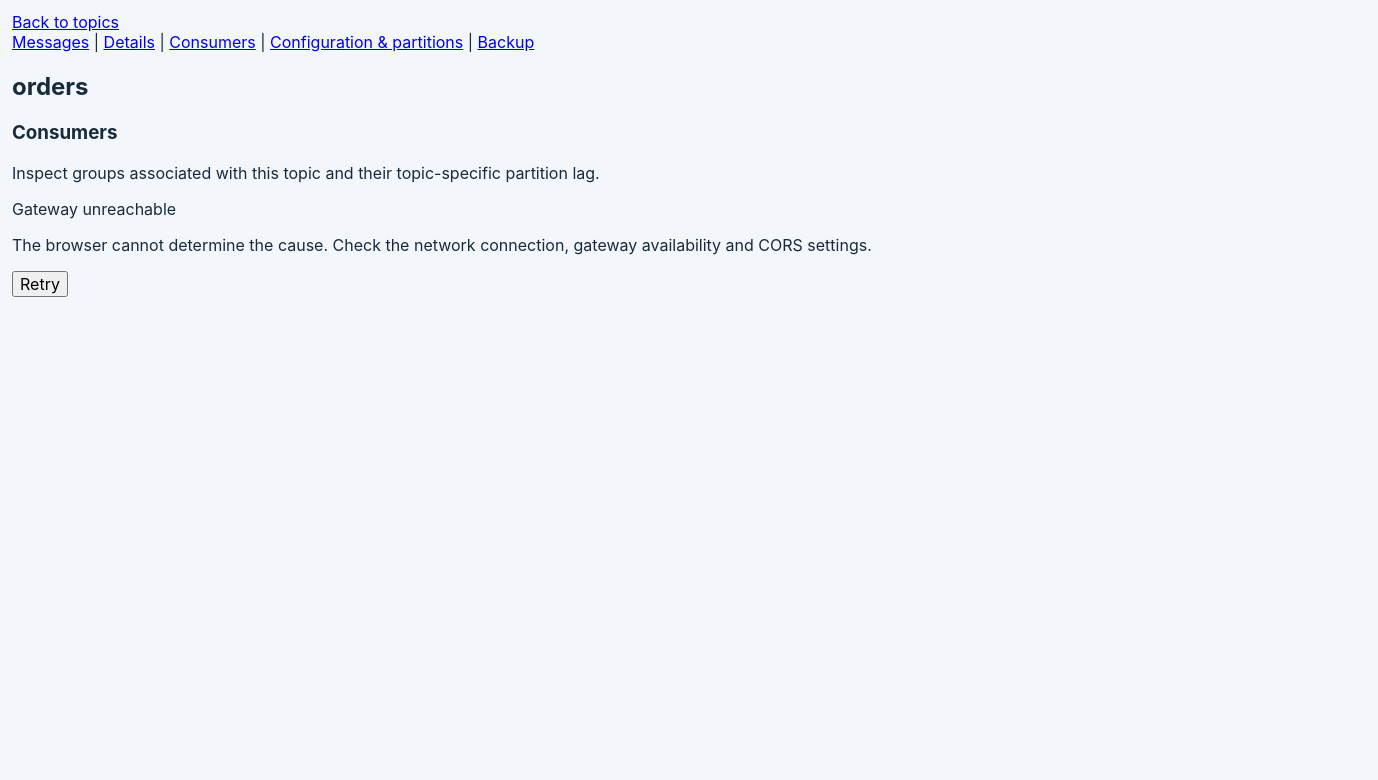
Test: TopicConsumerGroups › shows known group errors and retries gateway failures
The width and height of the screenshot is (1378, 780).
Expected: the text "Gateway unreachable" is shown, left=12, top=198, right=176, bottom=218
What coordinates should you click on to do the following:
click the button "Retry"
I would click on:
 (40, 284)
Its box is left=12, top=270, right=68, bottom=296.
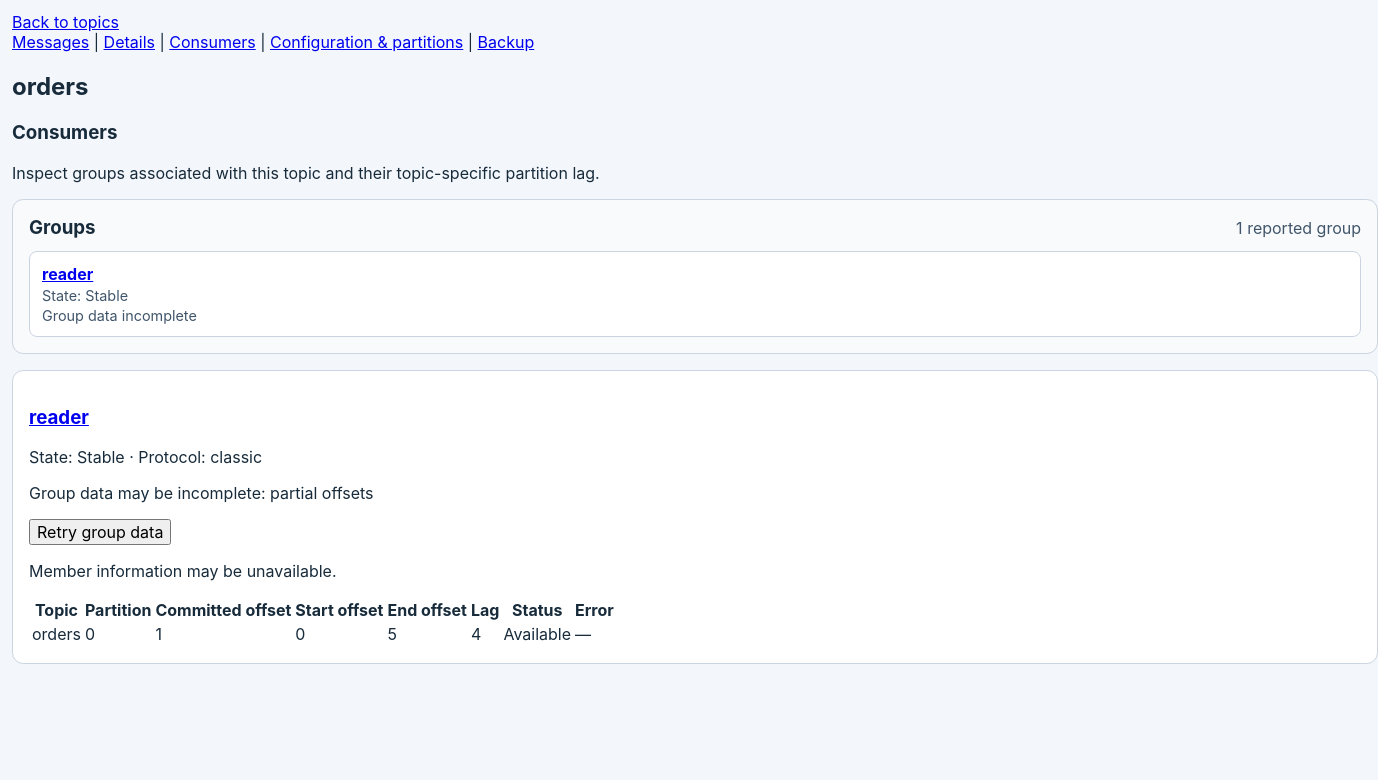
Expected: the message shows "partial offsets", left=270, top=483, right=374, bottom=503
Expected: the table named "Partition lag for reader" is shown, left=29, top=597, right=617, bottom=647
